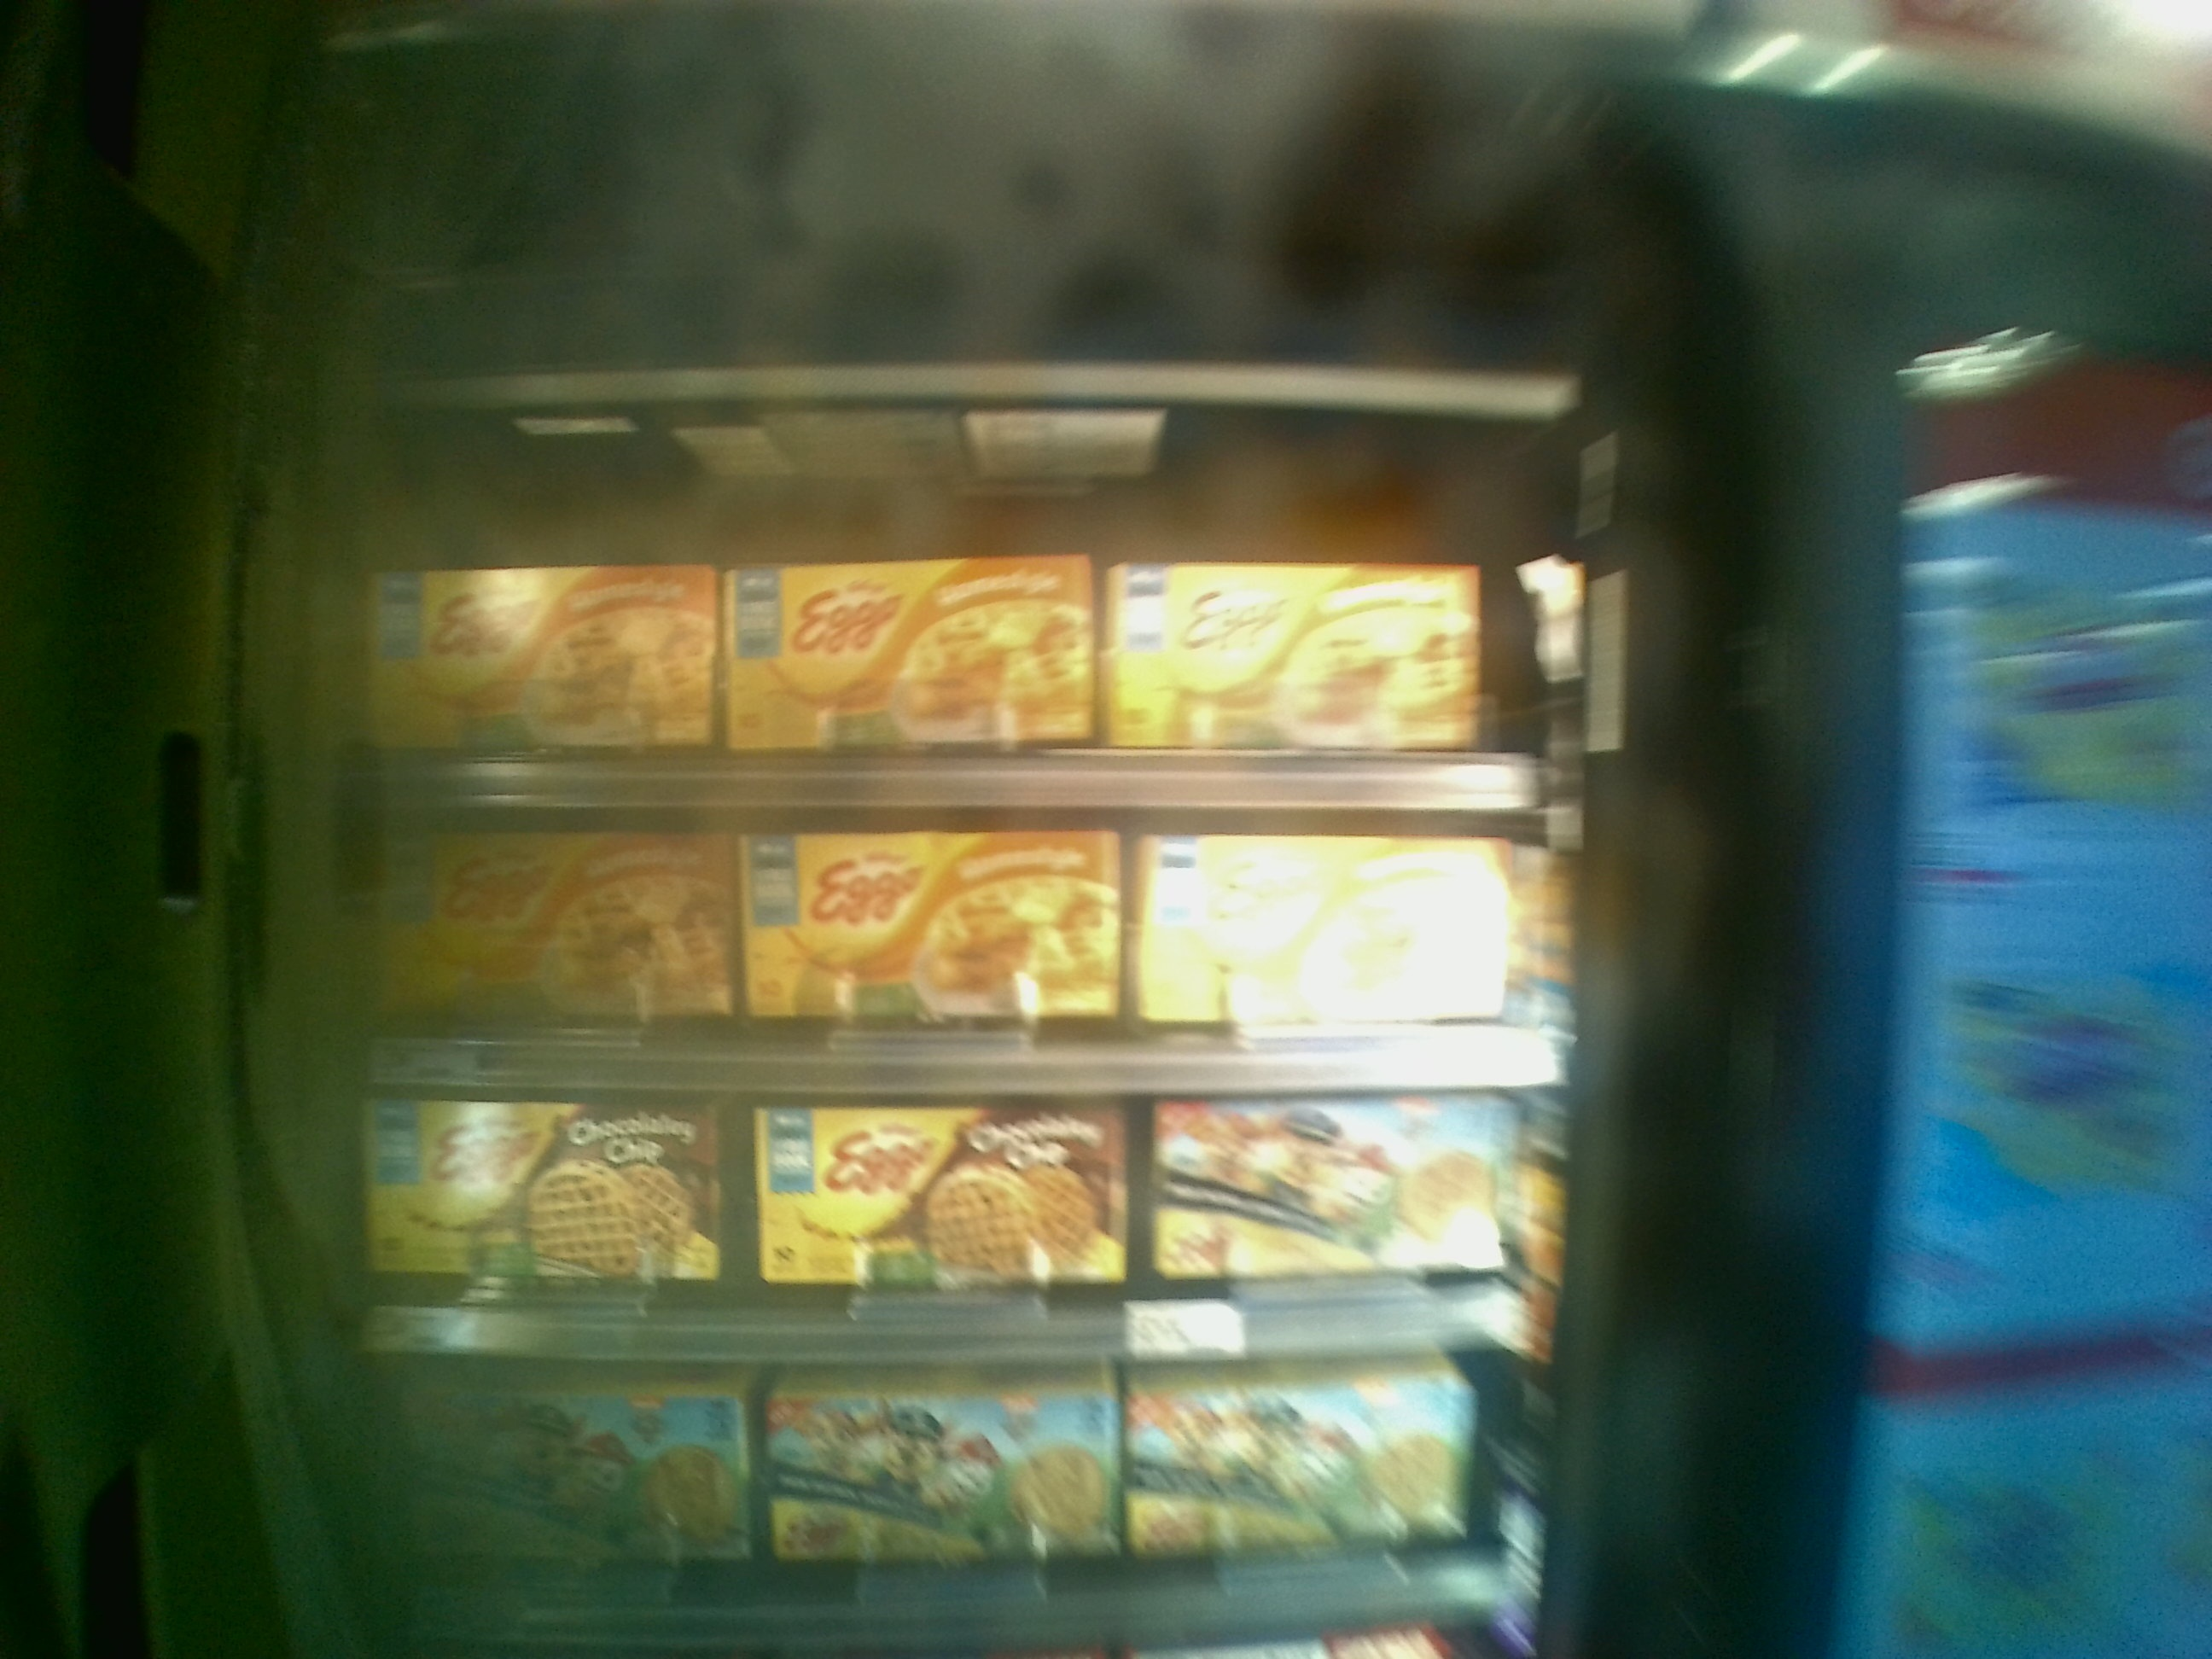shelf: (334, 476, 1599, 814), (326, 817, 1583, 1089), (324, 1098, 1569, 1351)
